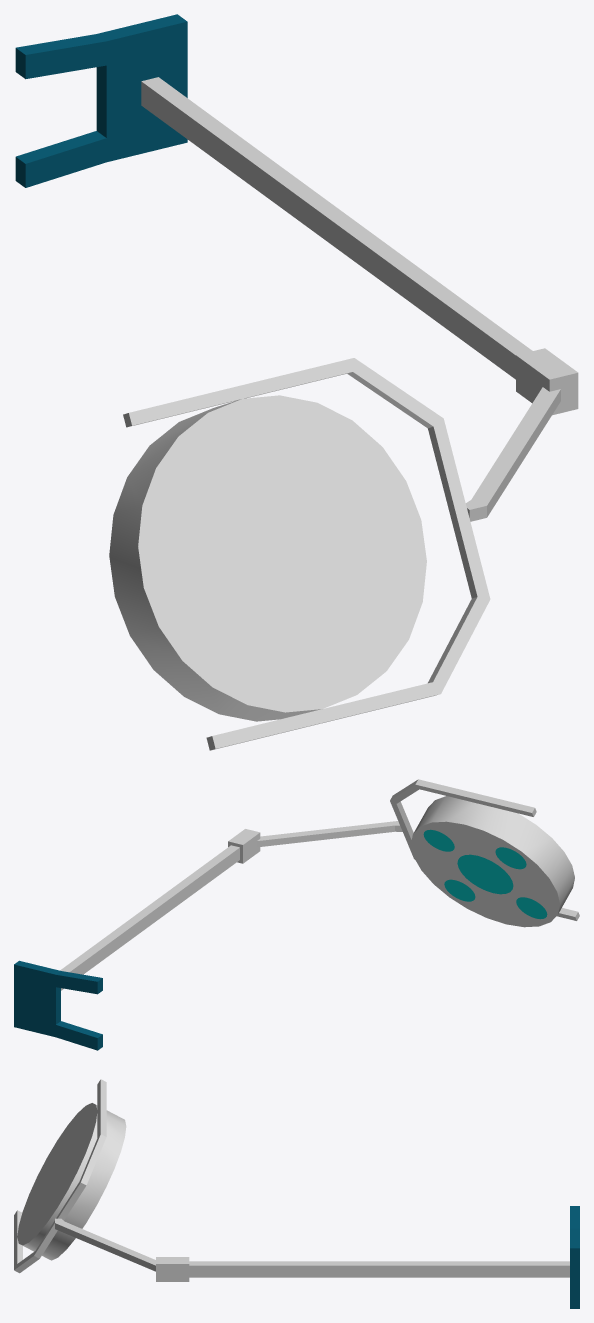
3 renders of one model, top to bottom at view 1: azimuth 30°, elevation 25°; view 2: azimuth 150°, elevation 25°; view 3: azimuth 270°, elevation 25°, orthographic. The views are drawn at different scales.
Visible parts, largest first — view 1: coords_ME_ID11_MA_Color_000, coords_ME_ID3_MA_material_21, coords_ME_ID27_MA_Color_000; view 2: coords_ME_ID11_MA_Color_000, coords_ME_ID3_MA_material_21, coords_ME_ID27_MA_Color_000, coords_ME_ID39_MA_Color_H06, coords_ME_ID19_MA_Color_H06, coords_ME_ID51_MA_Color_H06, coords_ME_ID45_MA_Color_H06, coords_ME_ID33_MA_Color_H06; view 3: coords_ME_ID11_MA_Color_000, coords_ME_ID27_MA_Color_000, coords_ME_ID3_MA_material_21.
Part boxes in pixels (x1,y1,x2,y2): coords_ME_ID11_MA_Color_000: (109,348,578,750); coords_ME_ID3_MA_material_21: (15,14,187,187); coords_ME_ID27_MA_Color_000: (141,77,532,379); coords_ME_ID11_MA_Color_000: (228,779,579,927); coords_ME_ID3_MA_material_21: (14,960,102,1050); coords_ME_ID27_MA_Color_000: (60,845,239,990); coords_ME_ID39_MA_Color_H06: (457,854,513,894); coords_ME_ID19_MA_Color_H06: (444,879,475,901); coords_ME_ID51_MA_Color_H06: (495,847,526,869); coords_ME_ID45_MA_Color_H06: (423,829,454,851); coords_ME_ID33_MA_Color_H06: (516,897,547,919); coords_ME_ID11_MA_Color_000: (14,1079,189,1281); coords_ME_ID27_MA_Color_000: (189,1261,569,1277); coords_ME_ID3_MA_material_21: (570,1206,579,1308).
Size of the model in its own units: 17.04 by 8.56 by 30.03.
